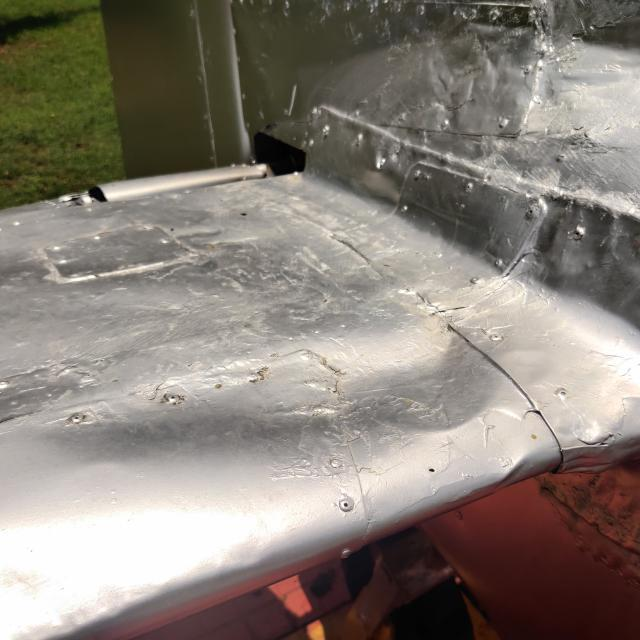dent: (37, 273, 519, 508)
